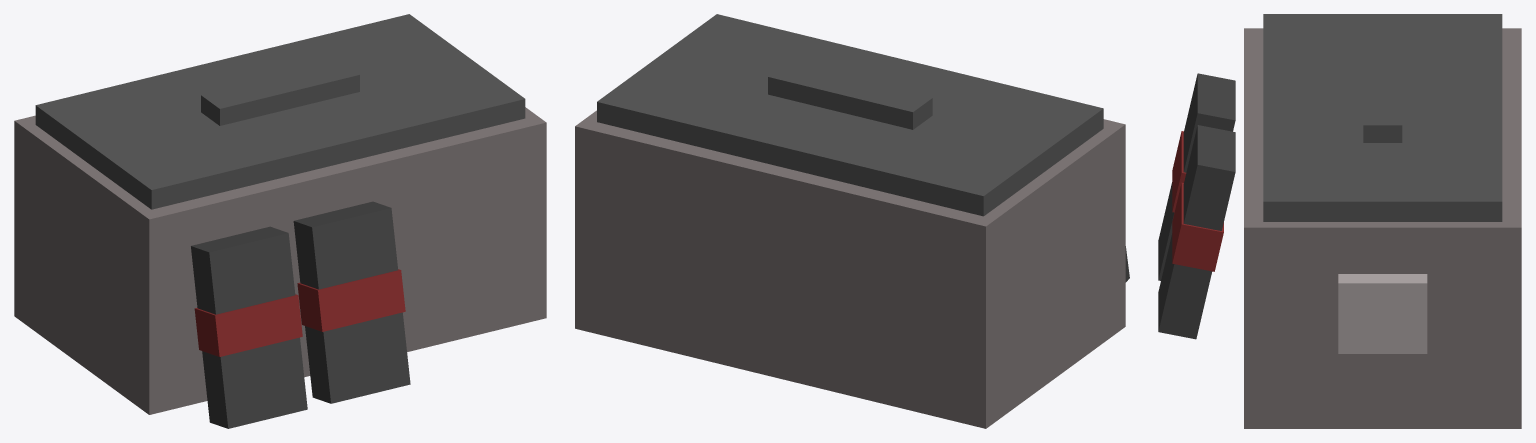
File: ce_ammo_rifle_ap_c.obj
The picture shows the model from 3 angles, left to right: view 1: azimuth 30°, elevation 25°; view 2: azimuth 150°, elevation 25°; view 3: azimuth 270°, elevation 25°; orthographic projection. The views are drawn at different scales.
Visible parts, largest first — view 1: ce_ammo_rifle_ap_c_0, ce_ammo_rifle_ap_c_1, ce_ammo_rifle_ap_c_4, ce_ammo_rifle_ap_c_6, ce_ammo_rifle_ap_c_2, ce_ammo_rifle_ap_c_7, ce_ammo_rifle_ap_c_5; view 2: ce_ammo_rifle_ap_c_0, ce_ammo_rifle_ap_c_1, ce_ammo_rifle_ap_c_2; view 3: ce_ammo_rifle_ap_c_0, ce_ammo_rifle_ap_c_1, ce_ammo_rifle_ap_c_6, ce_ammo_rifle_ap_c_3, ce_ammo_rifle_ap_c_4, ce_ammo_rifle_ap_c_2, ce_ammo_rifle_ap_c_7, ce_ammo_rifle_ap_c_5.
Boxes of the visible parts, x1,y1,x2,y2 form: ce_ammo_rifle_ap_c_0: [14, 107, 546, 414]; ce_ammo_rifle_ap_c_1: [35, 14, 525, 209]; ce_ammo_rifle_ap_c_4: [191, 226, 307, 428]; ce_ammo_rifle_ap_c_6: [293, 201, 410, 403]; ce_ammo_rifle_ap_c_2: [201, 61, 359, 125]; ce_ammo_rifle_ap_c_7: [297, 269, 405, 331]; ce_ammo_rifle_ap_c_5: [194, 294, 302, 356]; ce_ammo_rifle_ap_c_0: [575, 110, 1125, 428]; ce_ammo_rifle_ap_c_1: [597, 14, 1103, 216]; ce_ammo_rifle_ap_c_2: [768, 62, 932, 129]; ce_ammo_rifle_ap_c_0: [1244, 28, 1521, 428]; ce_ammo_rifle_ap_c_1: [1263, 14, 1502, 221]; ce_ammo_rifle_ap_c_6: [1158, 125, 1235, 339]; ce_ammo_rifle_ap_c_3: [1338, 274, 1427, 353]; ce_ammo_rifle_ap_c_4: [1158, 73, 1235, 280]; ce_ammo_rifle_ap_c_2: [1363, 55, 1402, 142]; ce_ammo_rifle_ap_c_7: [1172, 182, 1223, 271]; ce_ammo_rifle_ap_c_5: [1172, 131, 1186, 212].
Bounding box in the file's own units: 0.89 × 0.475 × 0.6542.
